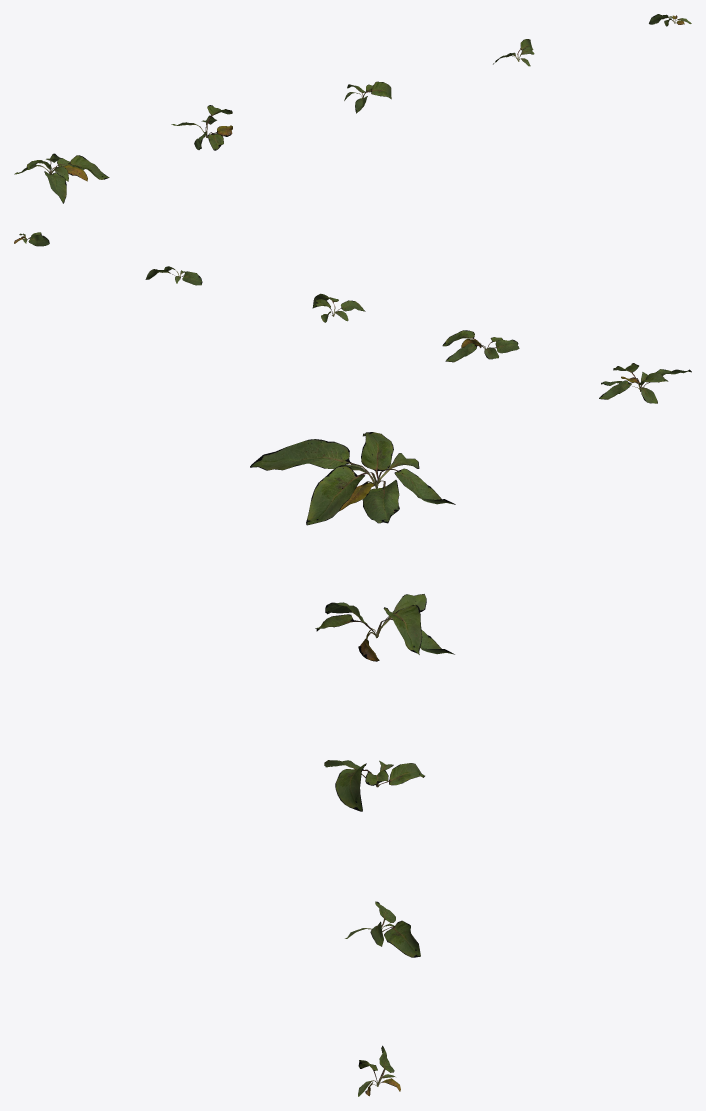
Rendered from weed_plant_02.glb.
The picture shows the model from 3 angles, top to bottom: view 1: azimuth 30°, elevation 25°; view 2: azimuth 150°, elevation 25°; view 3: azimuth 270°, elevation 25°; orthographic projection. The views are drawn at different scales.
Visible parts, largest first — view 1: weed_plant_02_a_LOD0, weed_plant_02_c_LOD0; view 2: weed_plant_02_a_LOD0, weed_plant_02_c_LOD0; view 3: weed_plant_02_a_LOD0, weed_plant_02_c_LOD0.
Part boxes in pixels (x1,y1,x2,y2): weed_plant_02_a_LOD0: (14,14,691,203); weed_plant_02_c_LOD0: (344,81,391,113); weed_plant_02_a_LOD0: (14,232,691,403); weed_plant_02_c_LOD0: (312,293,365,322); weed_plant_02_a_LOD0: (250,432,455,1096); weed_plant_02_c_LOD0: (324,760,424,811).
Bounding box in the file's own units: 2.13 × 0.0751 × 0.2909.
1 material, 1 textured.
